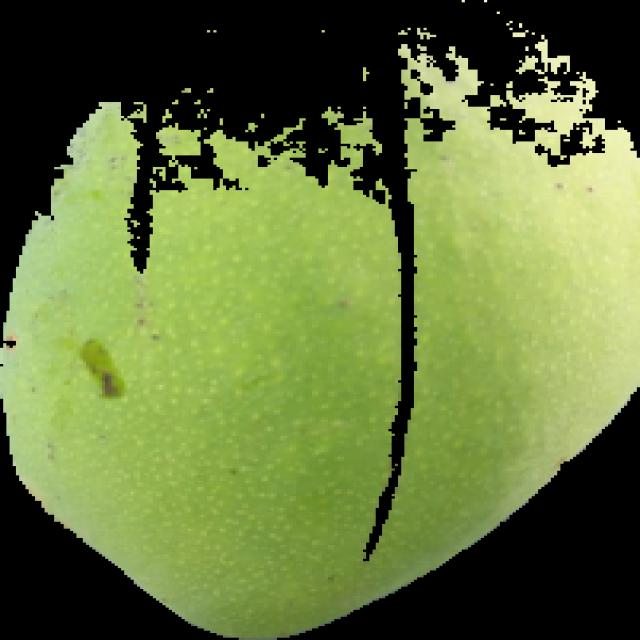Mango-sano: (0, 45, 639, 639)
